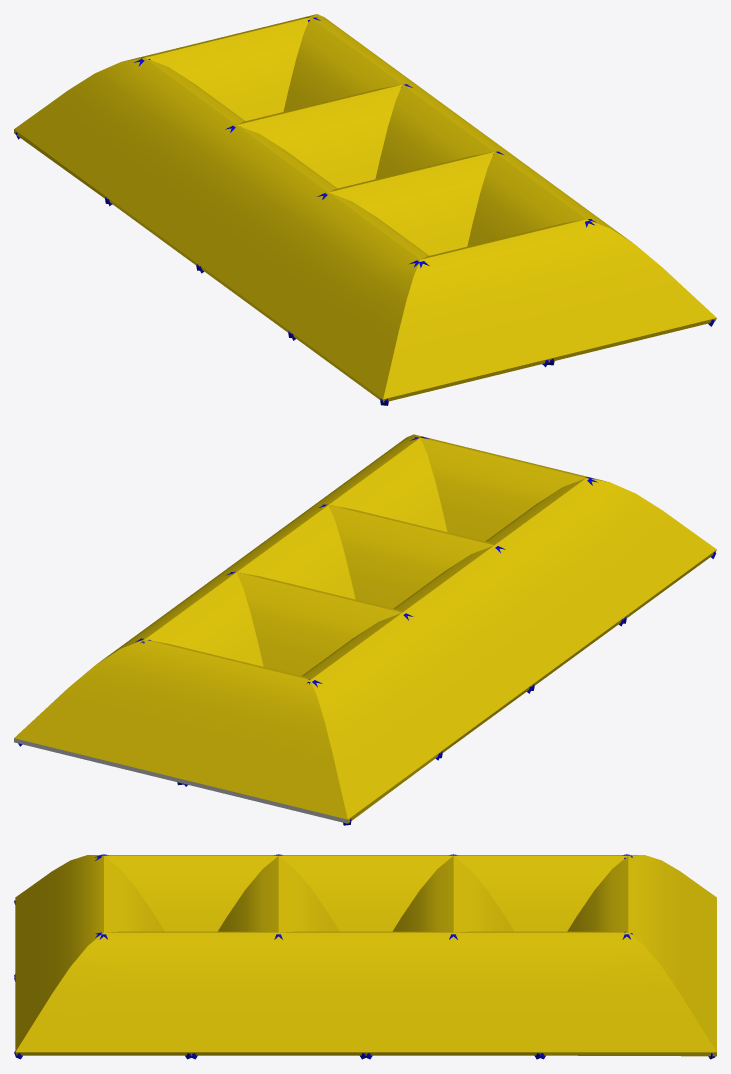
File: Catacomb Cistern Roof.fbx
3 renders of one model, top to bottom at view 1: azimuth 30°, elevation 25°; view 2: azimuth 150°, elevation 25°; view 3: azimuth 270°, elevation 25°, orthographic. The views are drawn at different scales.
Visible parts, largest first — view 1: Cube.025; view 2: Cube.025; view 3: Cube.025.
Boxes of the visible parts, x1=… form: Cube.025: x1=14, y1=14, x2=716, y2=405; Cube.025: x1=14, y1=434, x2=716, y2=825; Cube.025: x1=14, y1=854, x2=716, y2=1059.
Bounding box in the file's own units: 5050 × 1400 × 9626.
